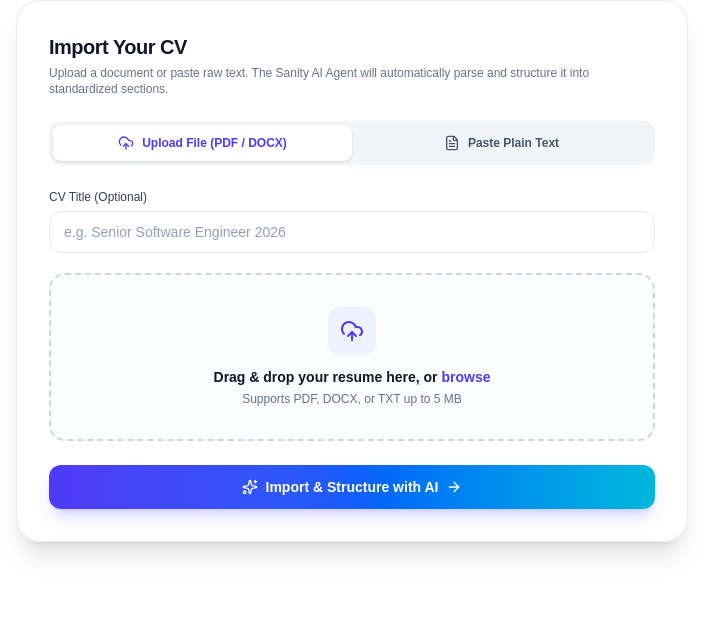
it: CVs UI Components Tests › shows validation error when attempting to submit with no input
Click the button with test id "import-submit-button" at (352, 487), box [49,465,655,509]
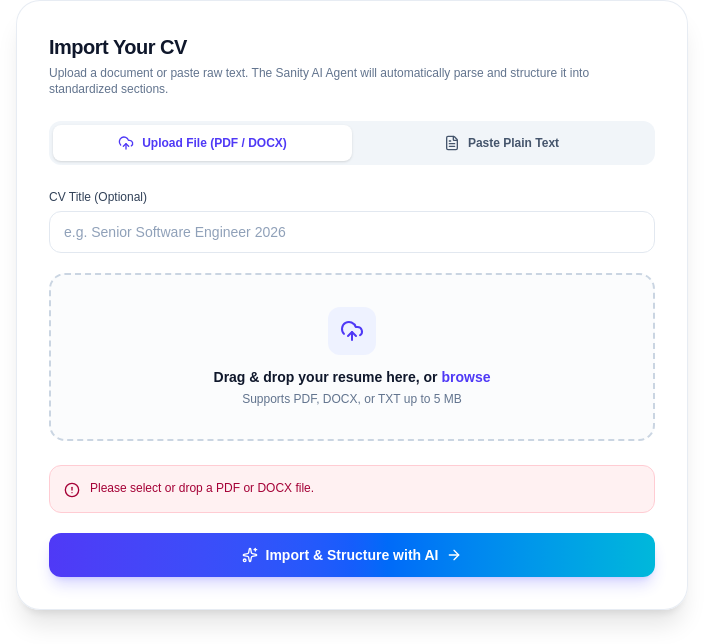
Result: the element with test id "import-error-banner" shows "Please select or drop a PDF or DOCX file" at [90,481,314,495]
